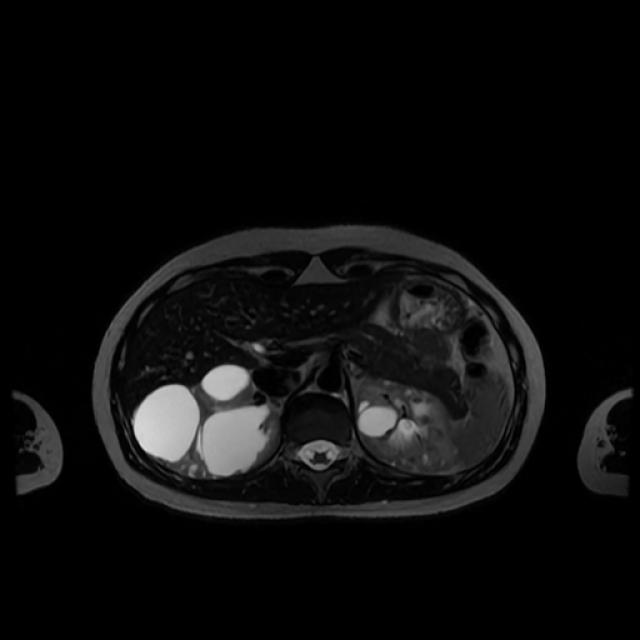sag: (130, 363, 283, 478)
sol: (356, 374, 464, 474)
